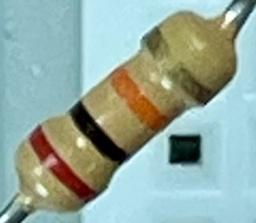Black: (64, 96, 132, 170)
Orange: (106, 65, 173, 137)
Red: (26, 122, 104, 208)
Side-Gold: (141, 25, 220, 108)
